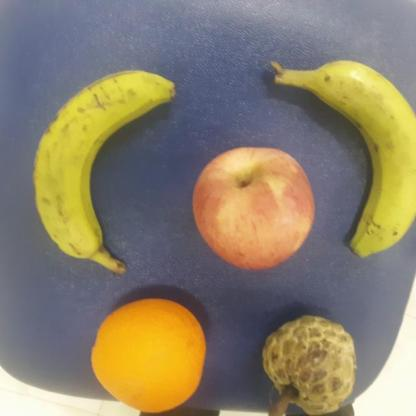annona: (262, 326, 365, 416)
apple: (192, 144, 320, 271)
banana: (30, 66, 185, 261), (308, 57, 416, 260)
orange: (88, 295, 206, 412)
